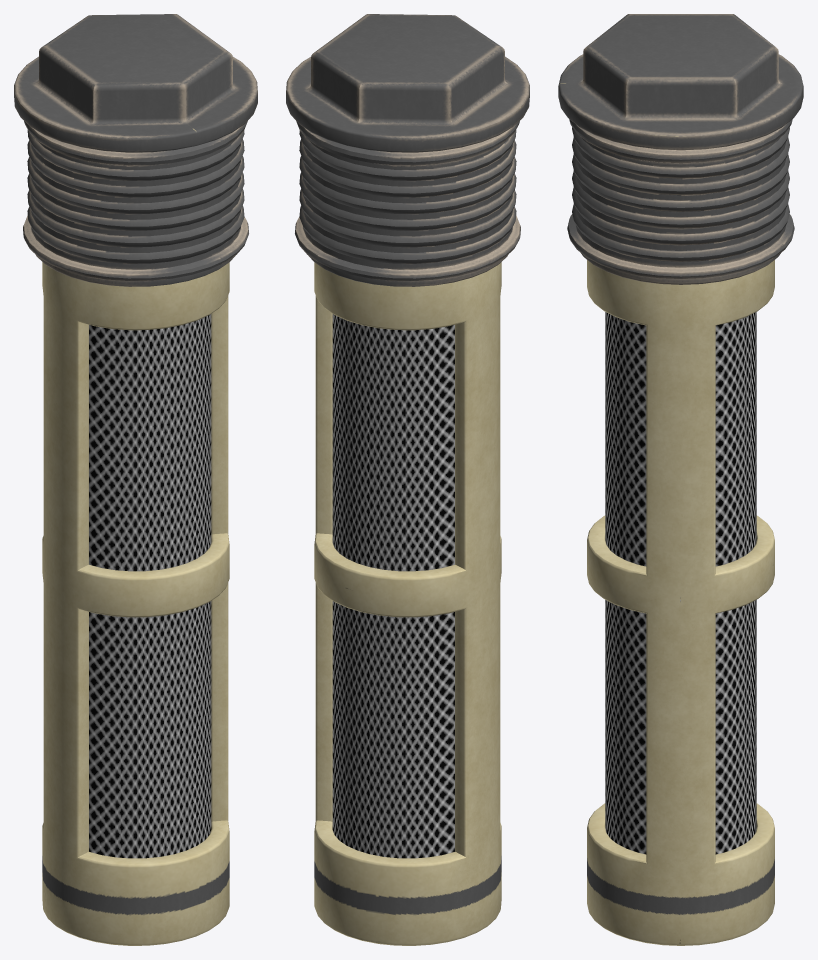
File: saringanOli.glb
3 views of the same model, side by side, from view 1: azimuth 30°, elevation 25°; view 2: azimuth 150°, elevation 25°; view 3: azimuth 270°, elevation 25° (orthographic).
Visible parts, largest first — view 1: saringanOli; view 2: saringanOli; view 3: saringanOli.
Part boxes in pixels (bbox=[...]): saringanOli: bbox=[14, 14, 257, 945]; saringanOli: bbox=[286, 14, 529, 945]; saringanOli: bbox=[558, 14, 803, 945].
Bounding box in the file's own units: 1.21 × 4.67 × 1.21.
1 material, 1 textured.
